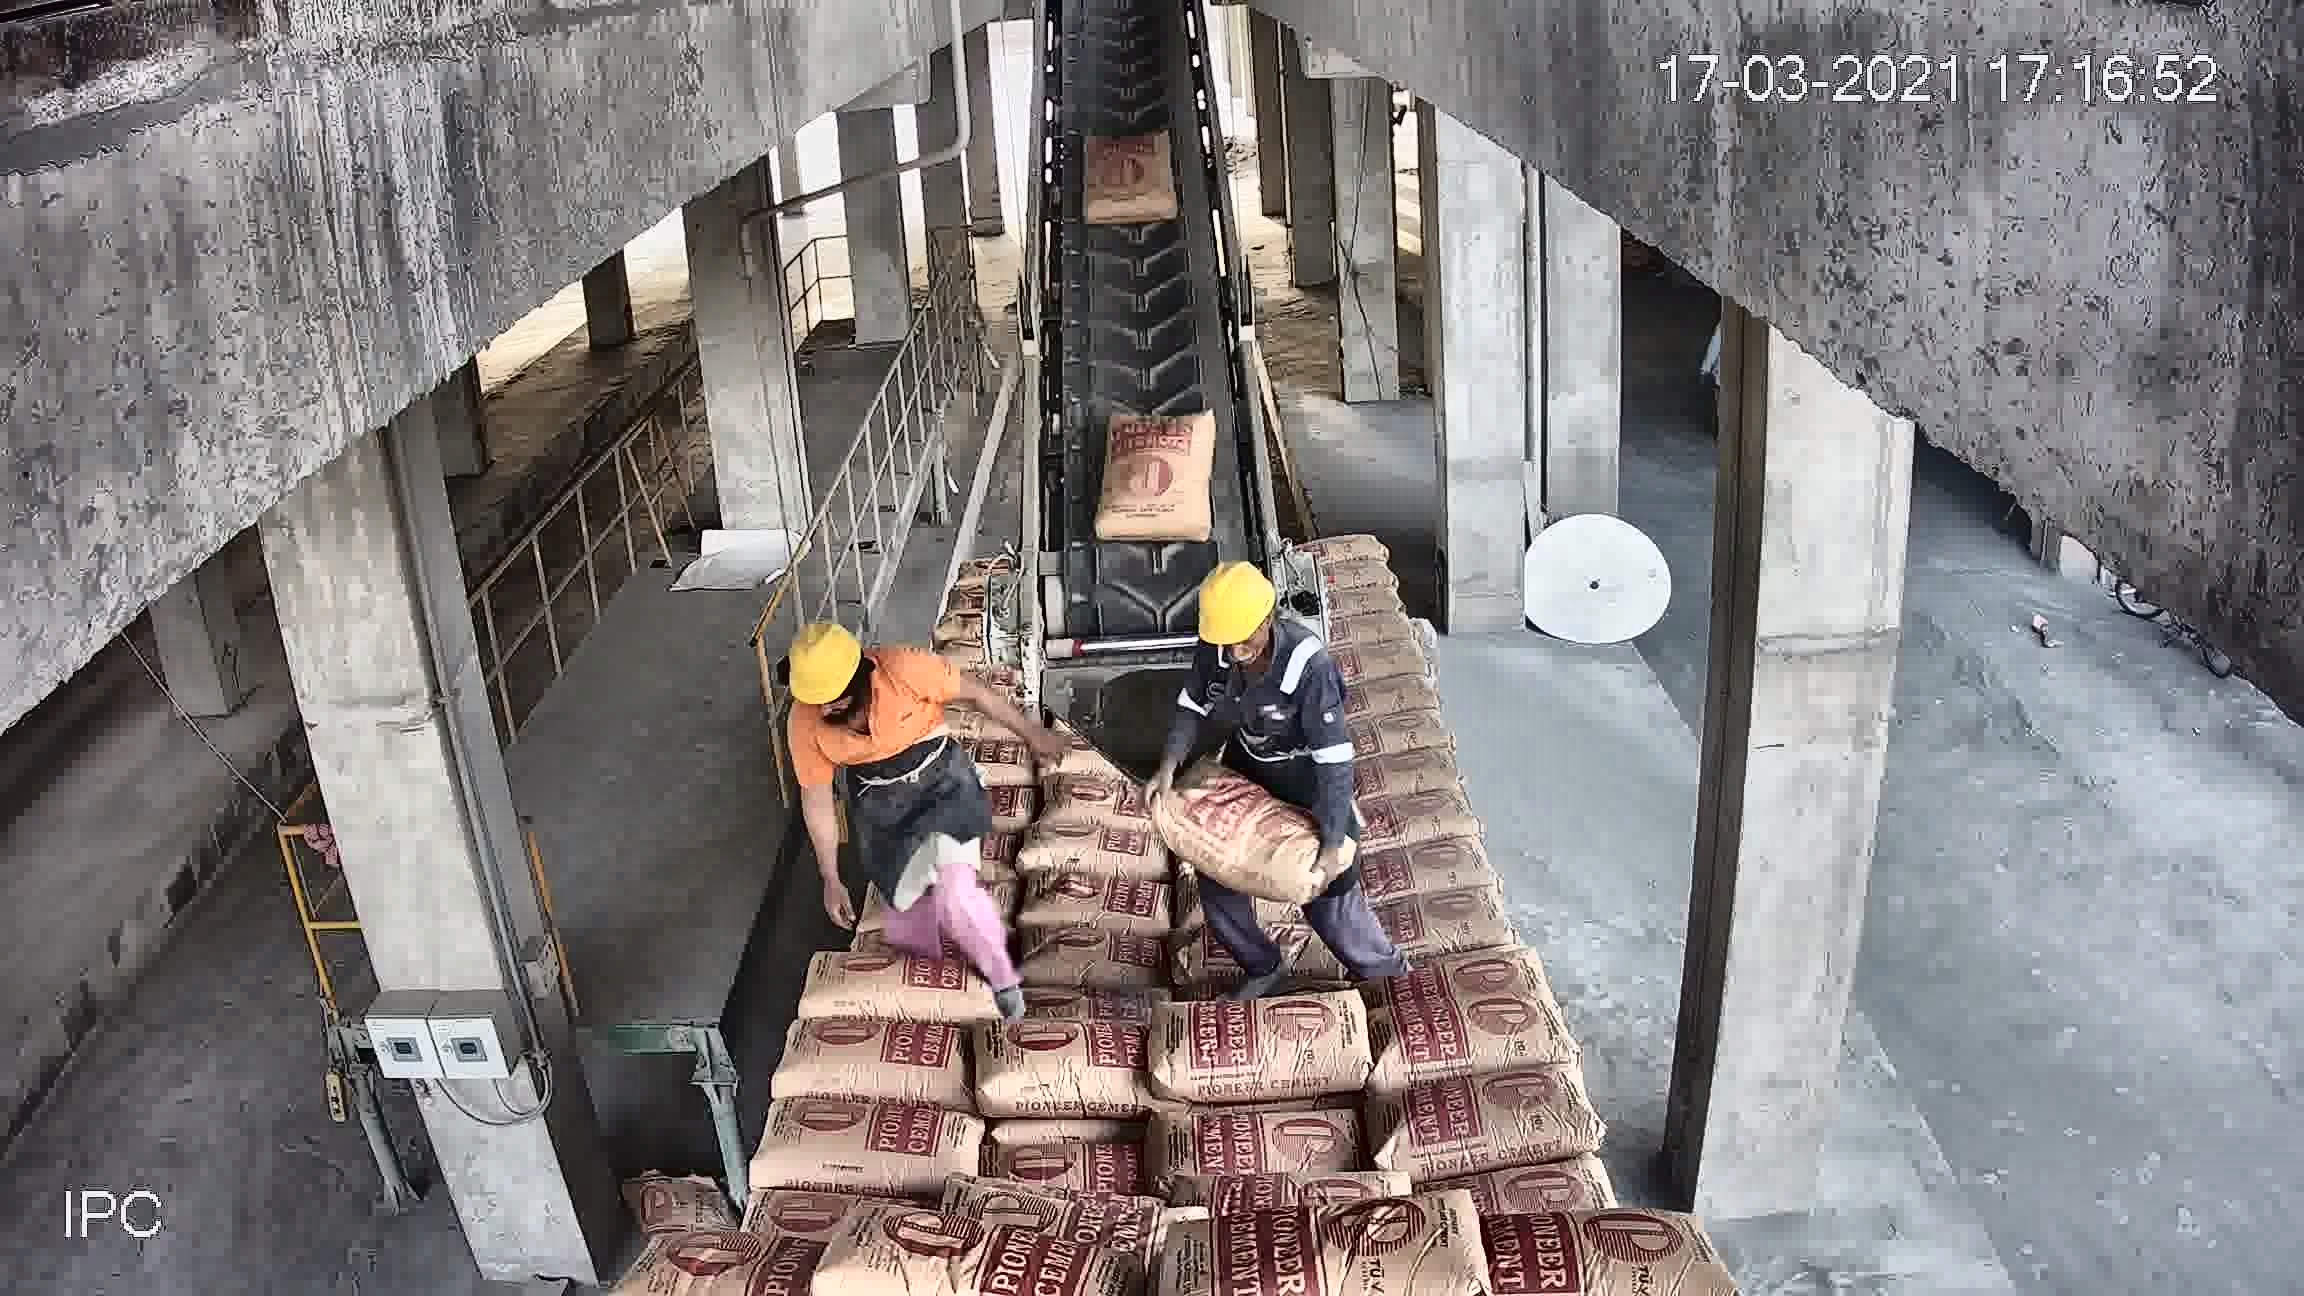bag: (1105, 404, 1215, 544), (1078, 131, 1179, 225)
bag_h: (1195, 1188, 1503, 1294), (1146, 992, 1381, 1112), (1434, 1196, 1714, 1294), (790, 1215, 1128, 1294), (1378, 1079, 1590, 1193), (748, 1100, 994, 1196), (975, 1008, 1158, 1130), (1362, 1002, 1579, 1093), (1165, 767, 1334, 881), (764, 1021, 981, 1108), (1160, 1111, 1366, 1196), (635, 1230, 843, 1296), (791, 946, 984, 1017), (1389, 889, 1527, 968), (1021, 918, 1166, 991), (991, 1144, 1158, 1201), (1377, 959, 1538, 1017), (1016, 875, 1161, 940), (1035, 760, 1150, 828), (1381, 836, 1499, 902), (1027, 820, 1161, 877), (1372, 783, 1476, 850), (1351, 748, 1468, 799), (1361, 707, 1442, 761), (1356, 669, 1442, 720), (1348, 636, 1431, 684), (1318, 557, 1402, 595), (1302, 529, 1381, 559)
belt: (1021, 40, 1272, 714)
